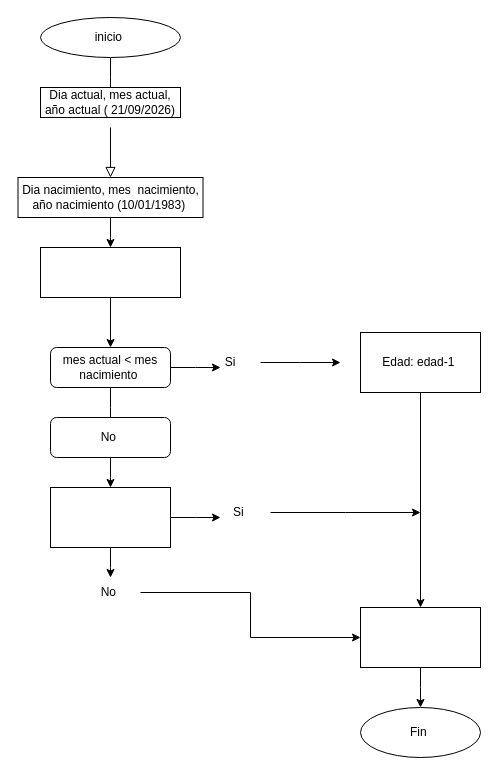
Some shapes in this 498 by 775 pixel diagram are drawn without their labels. Each missing label, with the centre of its shape:
"Año actual - Año nacimiento: 2026 - 1983" goes at point 110,272.
"Edad actual : 43 Años" goes at point 420,637.
"Mes actual = Mes nacimiento y Dia actual < Dia nacimiento" goes at point 110,517.
